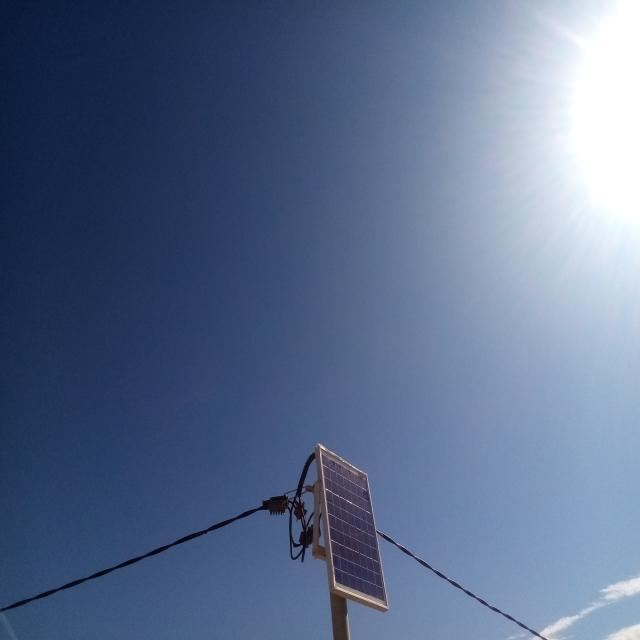no faulty: (319, 446, 389, 608)
